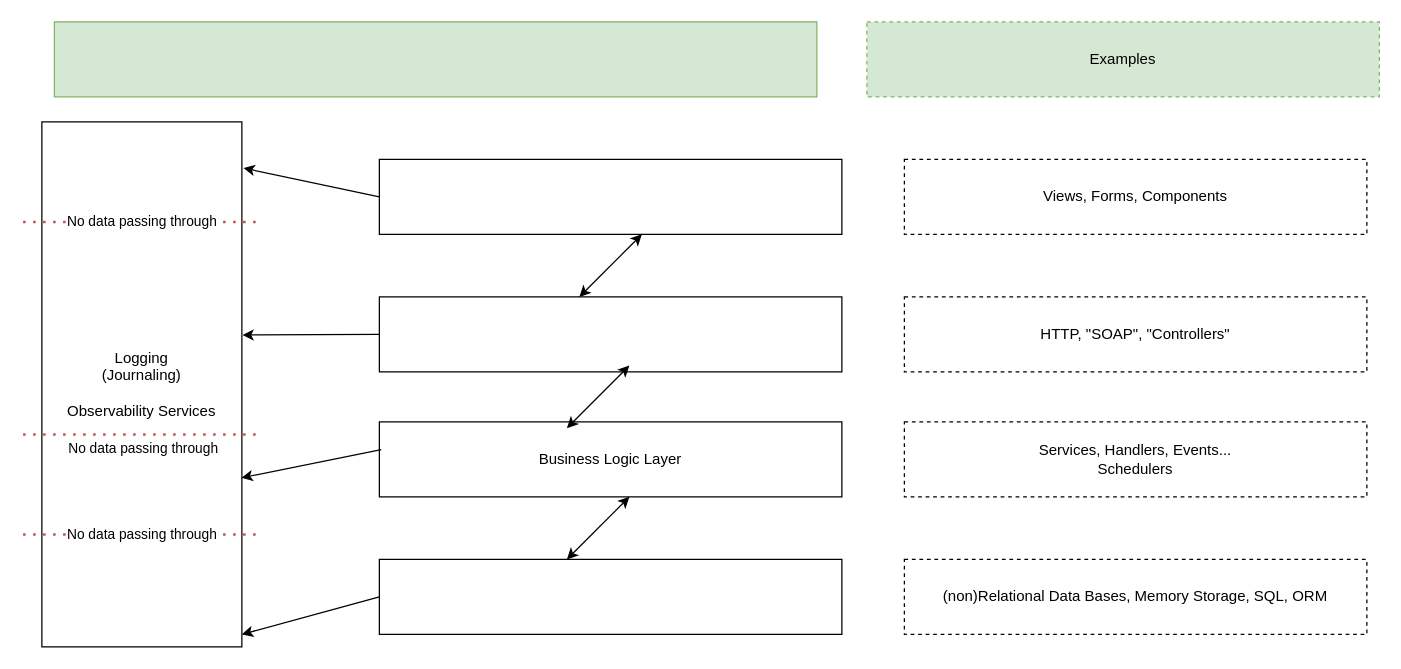
This 1401x669 diagram has some shape labels left out. The centre of each missing label's shape, as x and y in pixels:
"Data Layer" belongs at (610,596).
"Layers" belongs at (435,59).
"Protocol Layer" belongs at (610,334).
"The Presentation Layer" belongs at (610,196).
